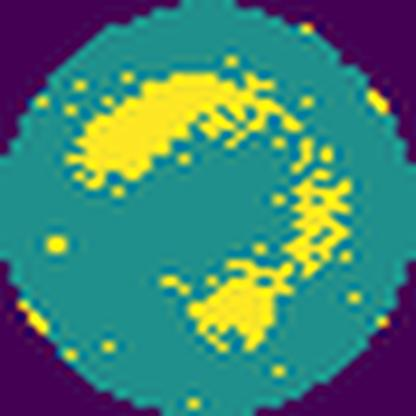Donut: (60, 63, 360, 363)
